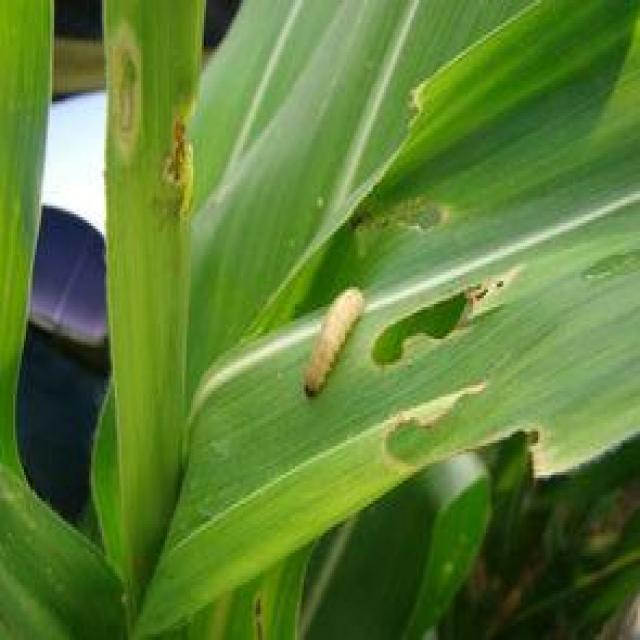BeetArmyWorm-Larva-: (301, 278, 371, 411)
